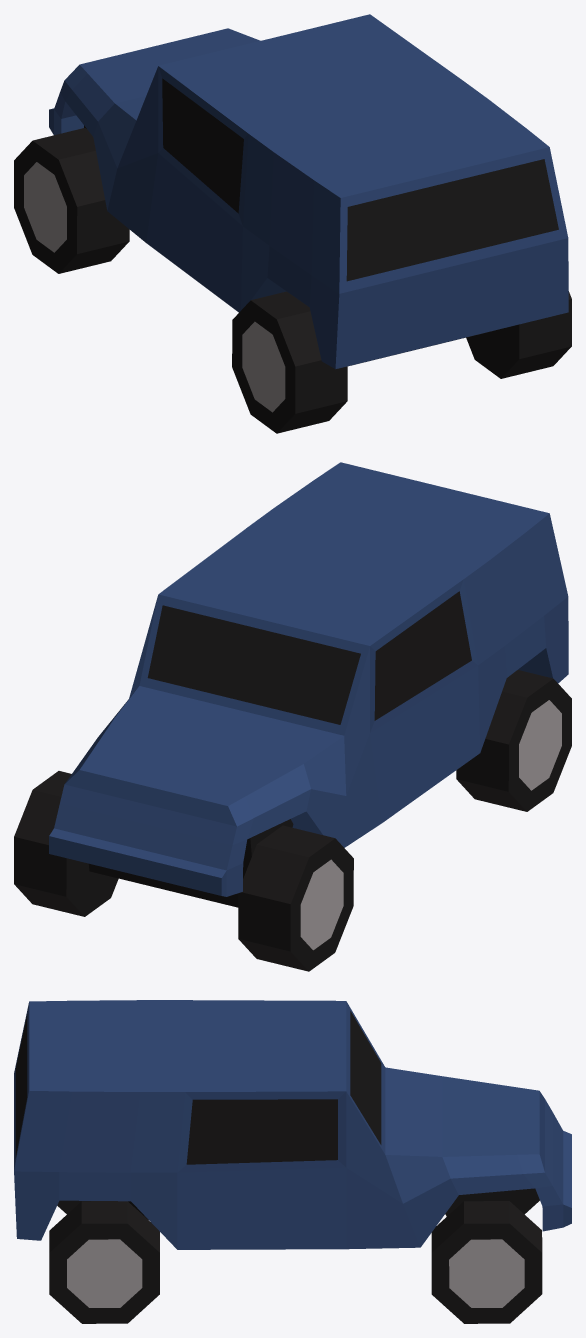
The model's file is Jeep.fbx.
3 views of the same model, one above another, from view 1: azimuth 30°, elevation 25°; view 2: azimuth 150°, elevation 25°; view 3: azimuth 270°, elevation 25° (orthographic). The views are drawn at different scales.
Visible parts, largest first — view 1: CAR; view 2: CAR; view 3: CAR.
Part boxes in pixels (x1,y1,x2,y2): CAR: (14, 14, 571, 433); CAR: (14, 462, 571, 971); CAR: (14, 1000, 571, 1323).
Size of the model in its own units: 1.77 by 3.53 by 1.52.
1 material, 1 textured.
